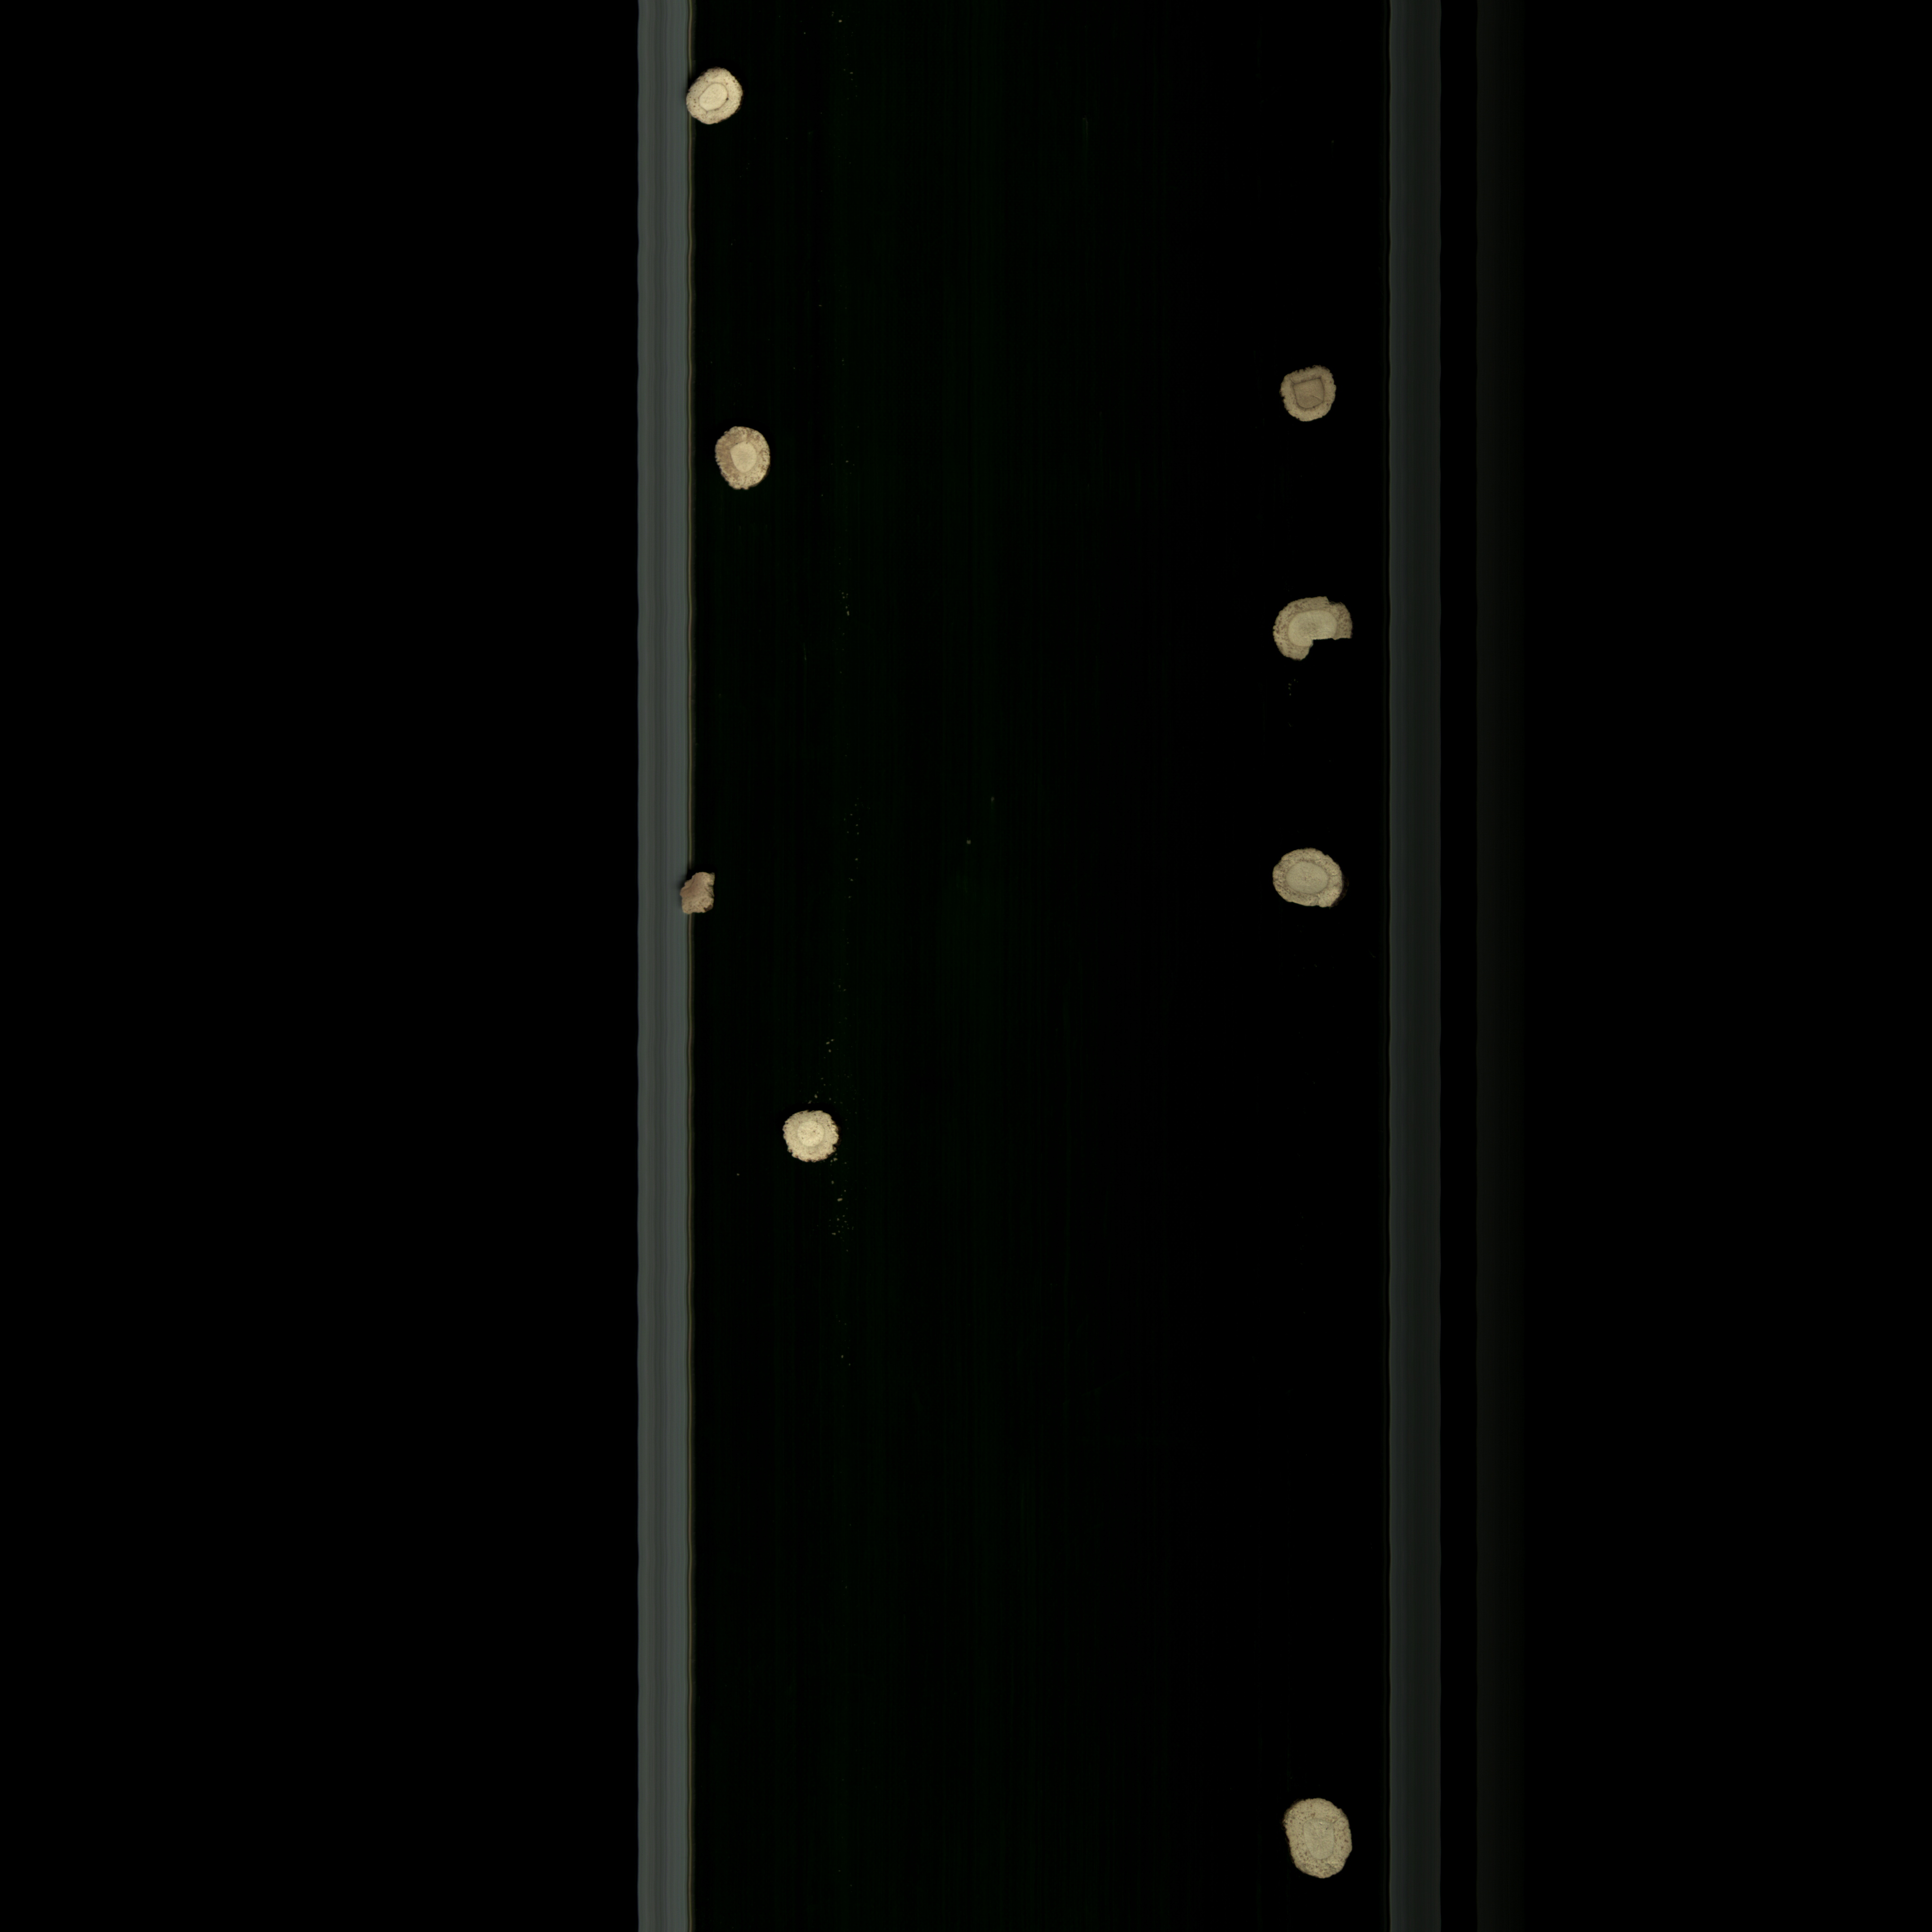debris: (1256, 584, 1382, 683)
moldy: (1272, 345, 1352, 442), (663, 856, 738, 922)
